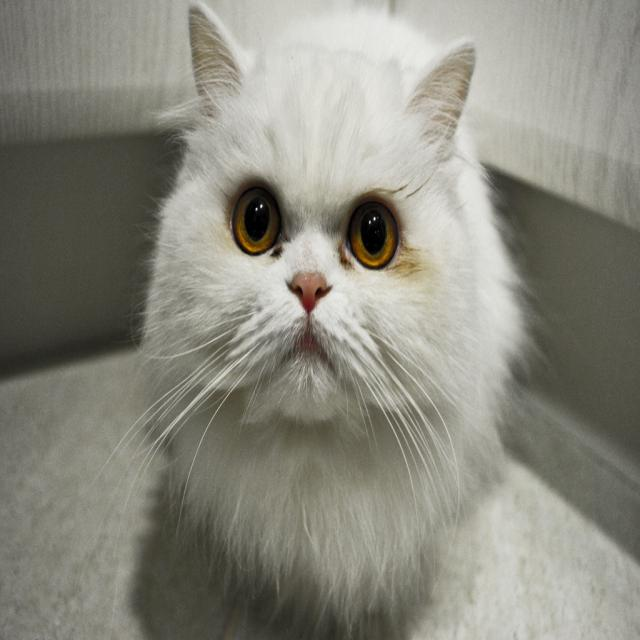Cat: (71, 0, 557, 639)
